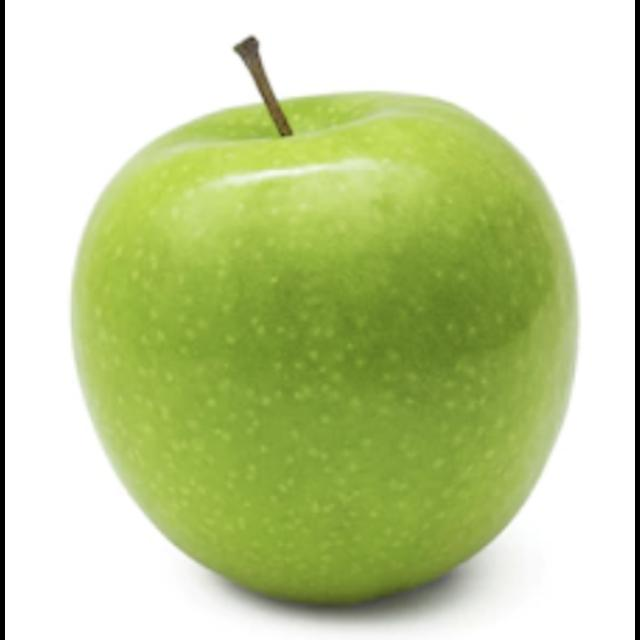Apel Segar: (32, 83, 624, 613)
